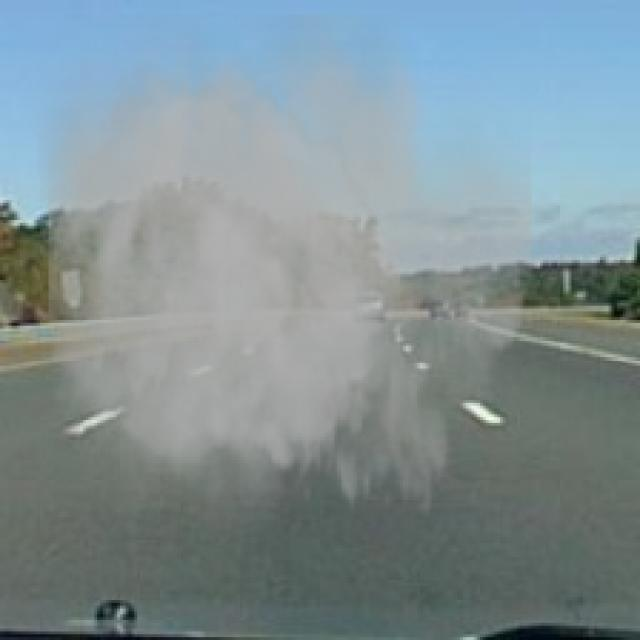smoke: (17, 14, 532, 569)
